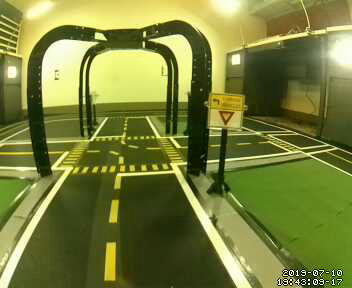Turn Yield: (207, 92, 243, 132)
